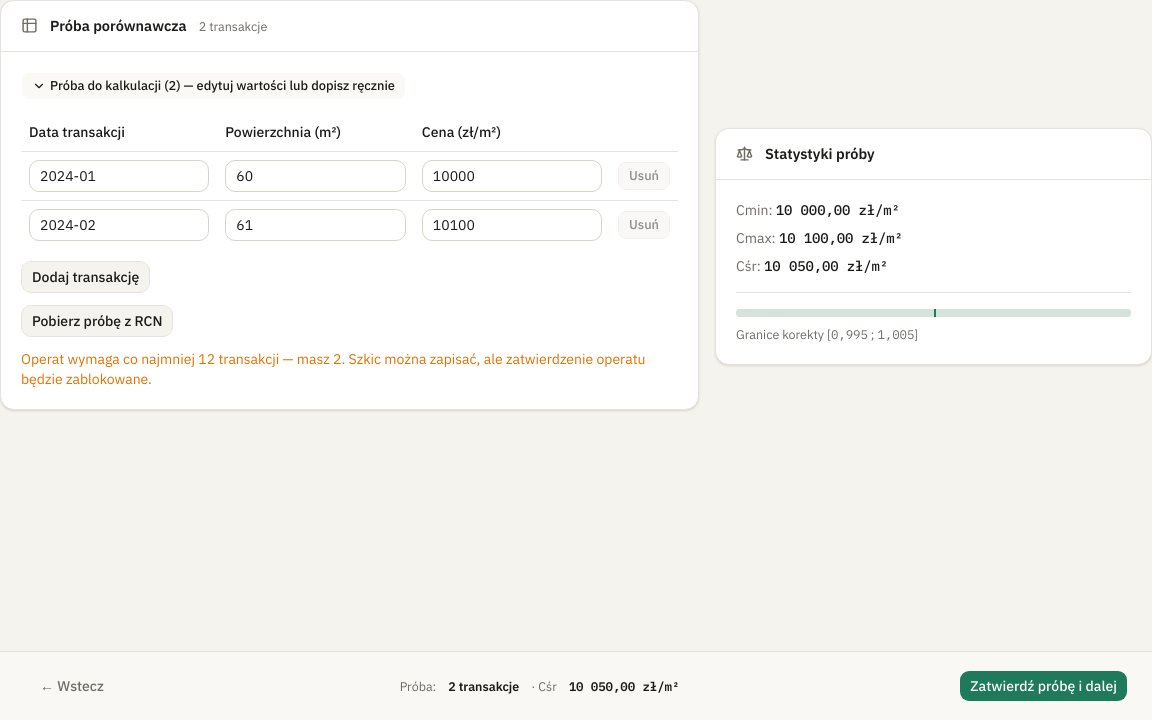
it: StepSample — validation › blocks submit with fewer than 3 comparables and shows the zod message
The image size is (1152, 720).
expect the number of number fields with placeholder "zł/m²" is 2: met, box [422,160,602,192]; [422,209,602,241]
Click the button "Zatwierdź próbę i dalej".
click(1044, 686)  # box [959,670,1128,702]
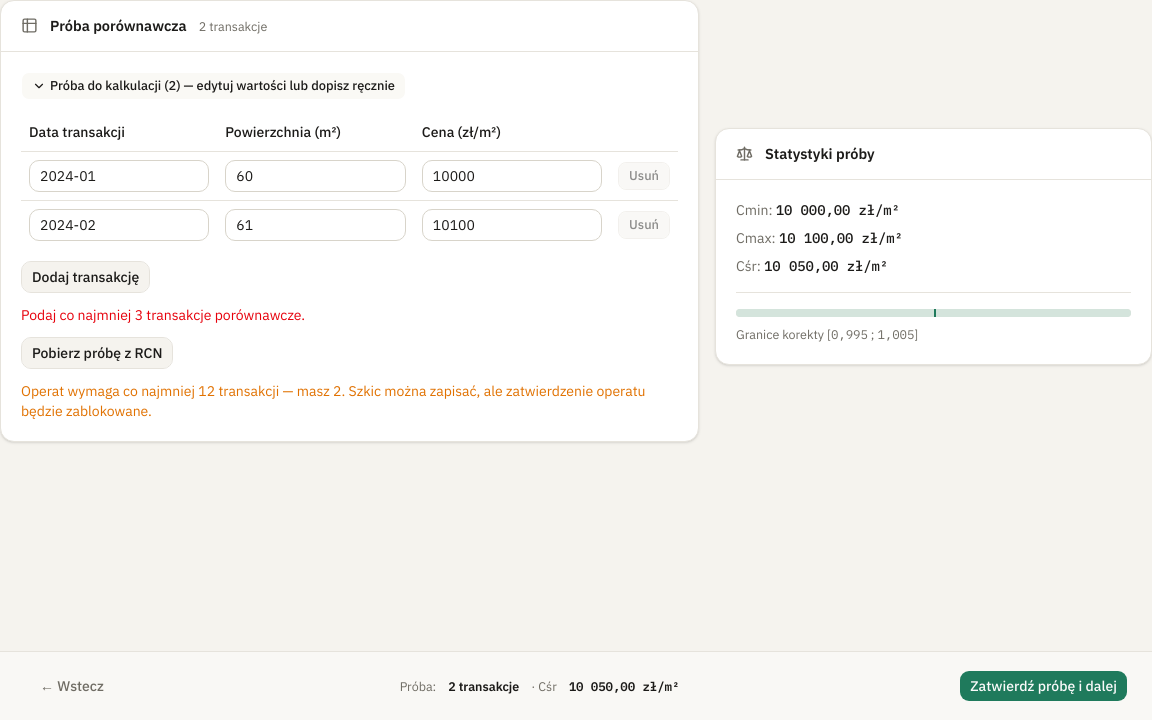
expect the message shows "co najmniej 3": met, box [21,306,305,324]
